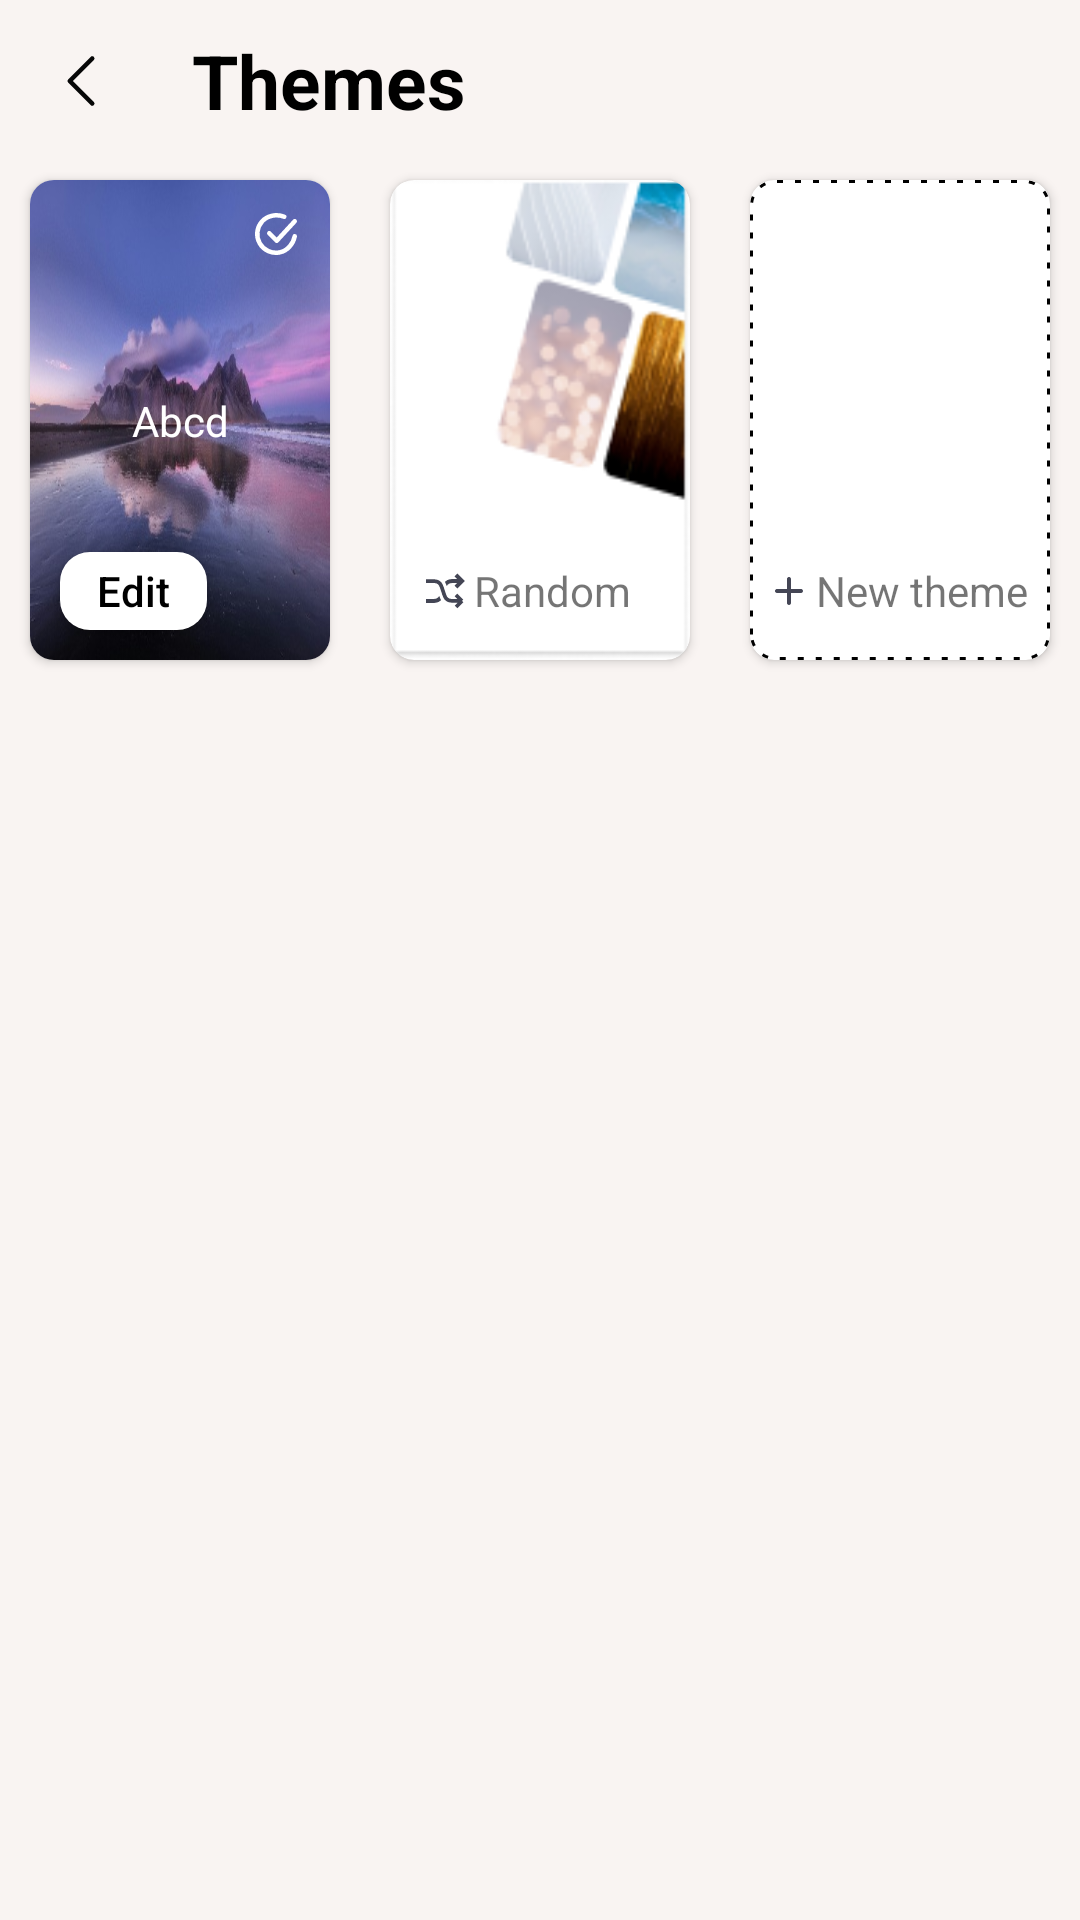

Where to tap for icons on this 1080×1920 app screen, as point (x, y):
back: point (81, 81)
plus: point (789, 591)
